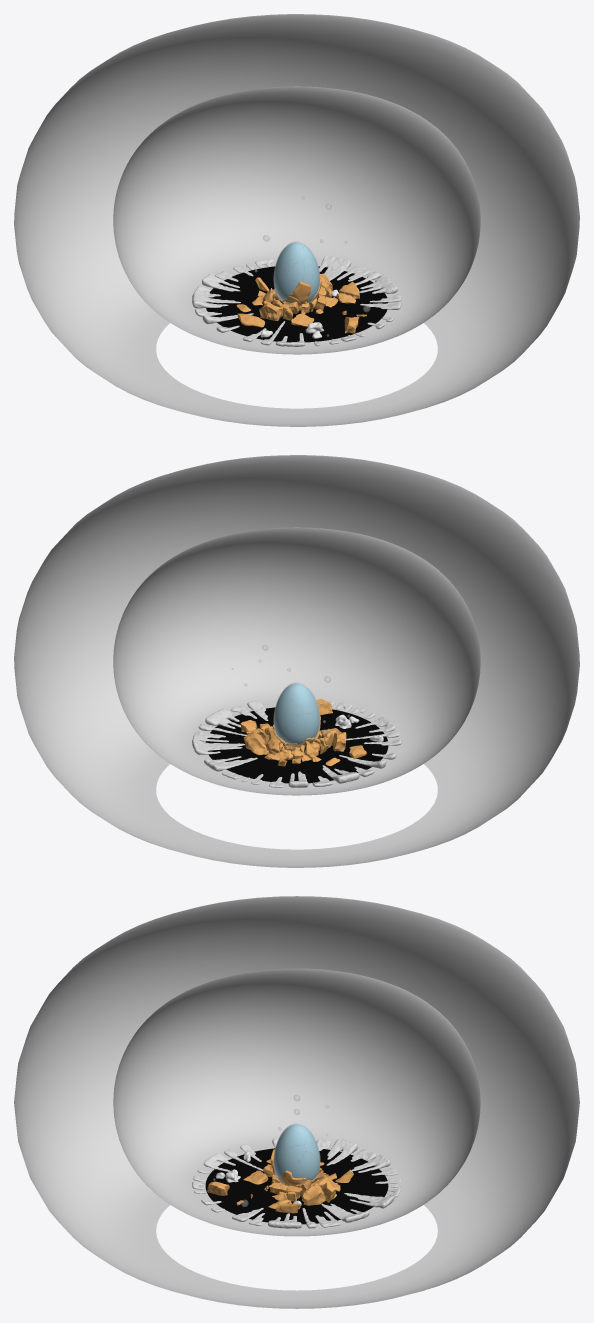
The model's file is PXLs_egg235.glb.
3 renders of one model, top to bottom at view 1: azimuth 30°, elevation 25°; view 2: azimuth 150°, elevation 25°; view 3: azimuth 270°, elevation 25°, orthographic.
Visible parts, largest first — view 1: outerCylinder, innerCylinder, floorBase, pinkGoo5, rockDebris, smoke4, smoke3, crackedEgg; view 2: outerCylinder, innerCylinder, floorBase, pinkGoo5, rockDebris, smoke4, smoke3, crackedEgg; view 3: outerCylinder, innerCylinder, floorBase, pinkGoo5, rockDebris, smoke4, smoke3, crackedEgg.
Part boxes in pixels (x1,y1,x2,y2): outerCylinder: (14, 14, 579, 426); innerCylinder: (113, 86, 480, 354); floorBase: (206, 266, 388, 342); pinkGoo5: (192, 256, 401, 346); rockDebris: (237, 273, 359, 333); smoke4: (273, 241, 320, 305); smoke3: (274, 241, 319, 302); crackedEgg: (274, 242, 319, 302); outerCylinder: (14, 455, 579, 867); innerCylinder: (113, 527, 480, 795); floorBase: (205, 707, 388, 783); pinkGoo5: (192, 700, 401, 787); rockDebris: (240, 699, 366, 766); smoke4: (273, 682, 320, 747); smoke3: (274, 682, 319, 746); crackedEgg: (274, 683, 319, 744); outerCylinder: (14, 896, 579, 1308); innerCylinder: (113, 968, 480, 1236); floorBase: (205, 1148, 388, 1224); pinkGoo5: (192, 1138, 401, 1228); rockDebris: (207, 1156, 353, 1213); smoke4: (273, 1123, 320, 1185); smoke3: (274, 1123, 320, 1179); crackedEgg: (274, 1124, 319, 1180).
Bounding box in the file's own units: 22.69 × 11.36 × 22.69.
Materials: 8 (2 with a texture image).
